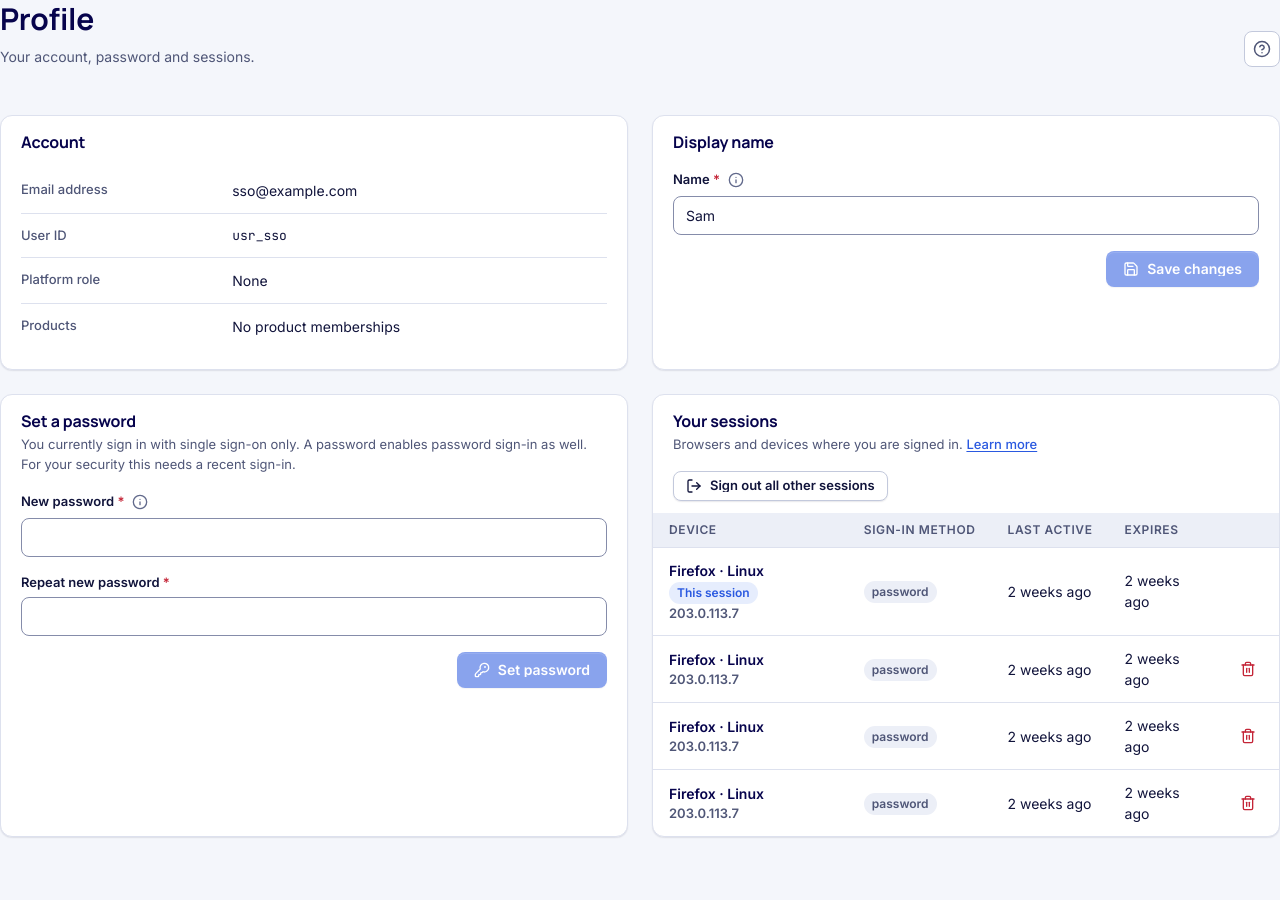
Test: ProfilePage: sign out all other sessions › signs out the others, reports success and reloads the list
Click the button "Sign out all other sessions" at (780, 486), box 673,470 -> 888,500
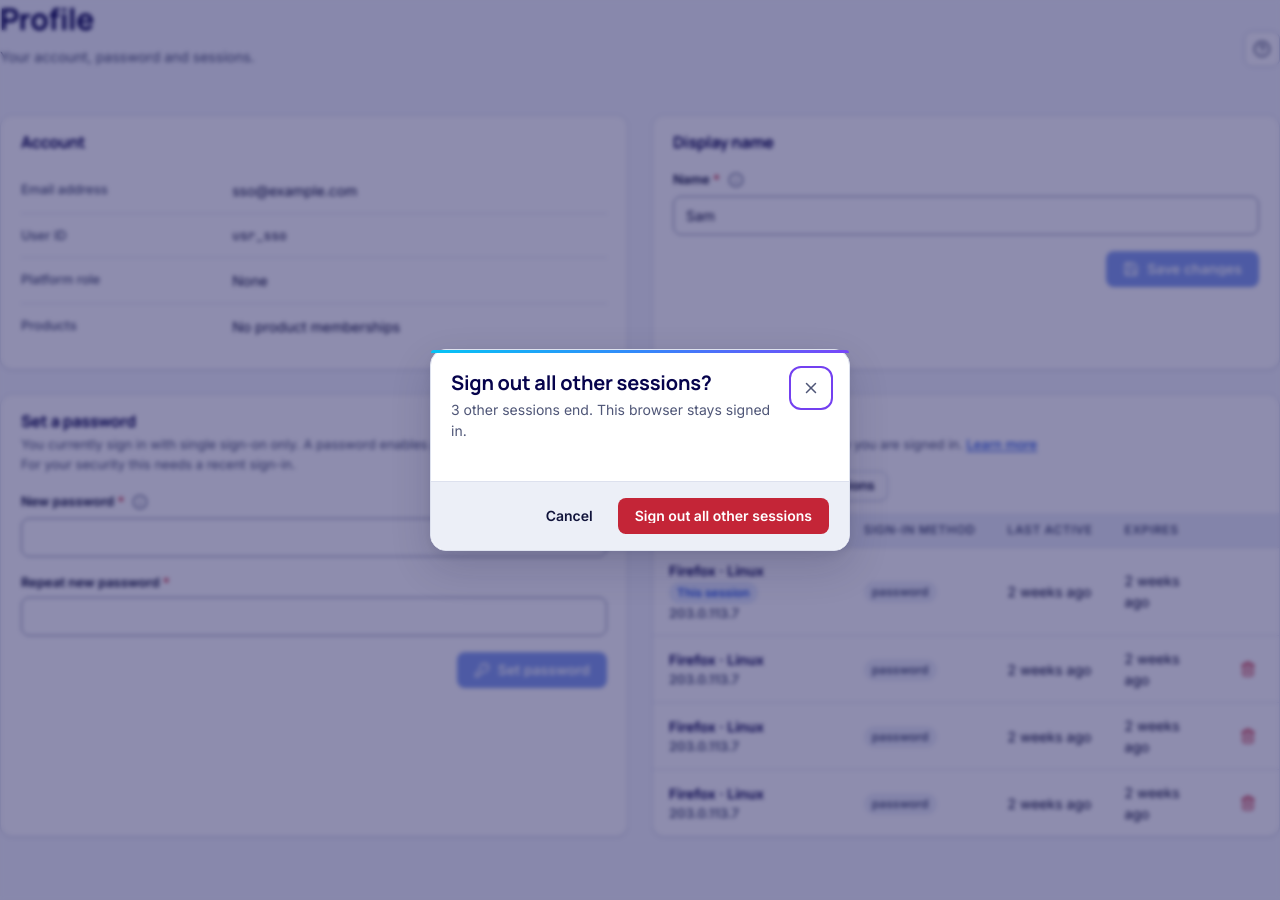
Expected: the dialog "Sign out all other sessions?" shows "3 other sessions end. This browser stays signed in.", 451,401 -> 770,439
Click the button "Sign out all other sessions" at (723, 516), box 618,498 -> 829,534
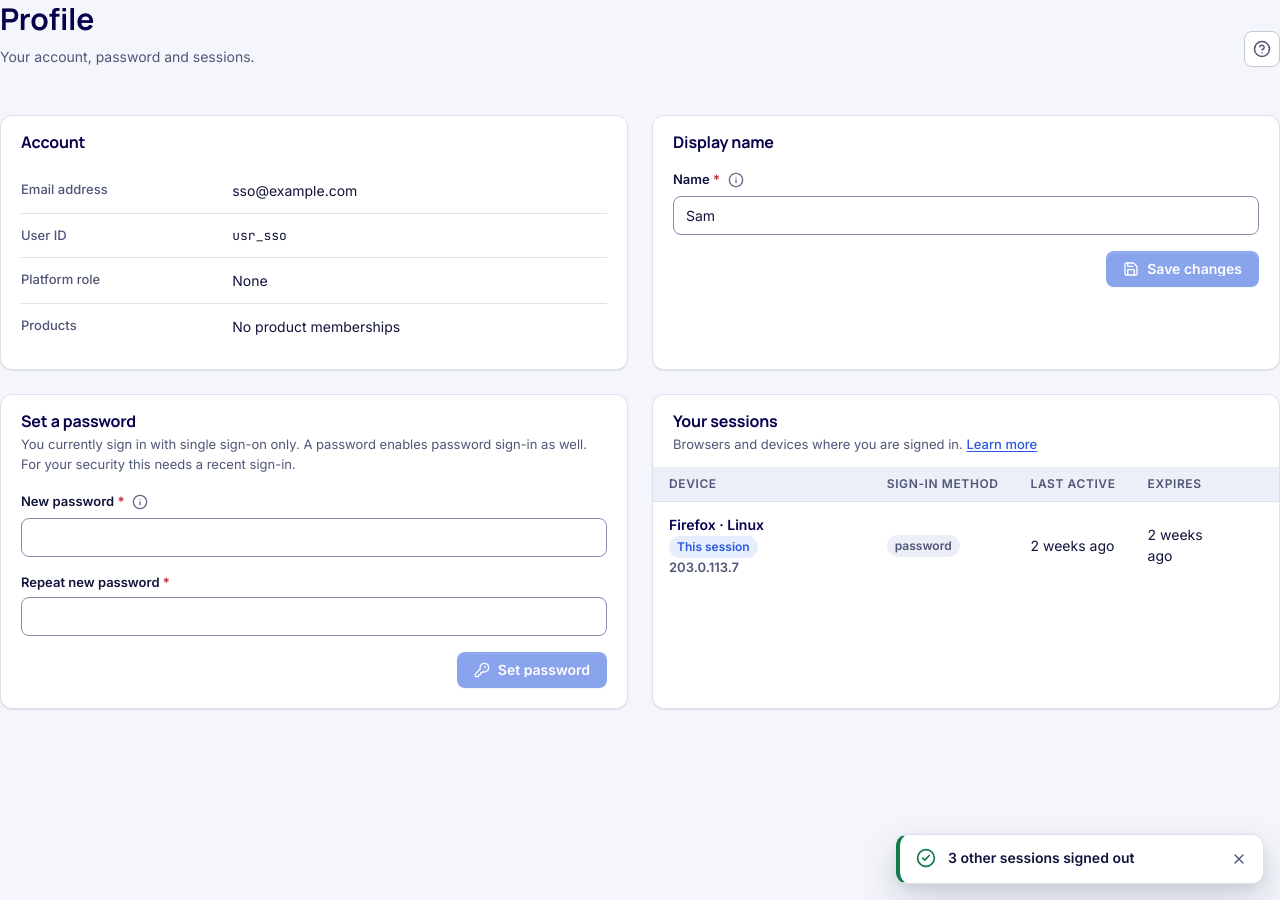
Expected: the text "3 other sessions signed out" is shown, 948,849 -> 1134,866
Expected: the button "Sign out all other sessions" is gone
